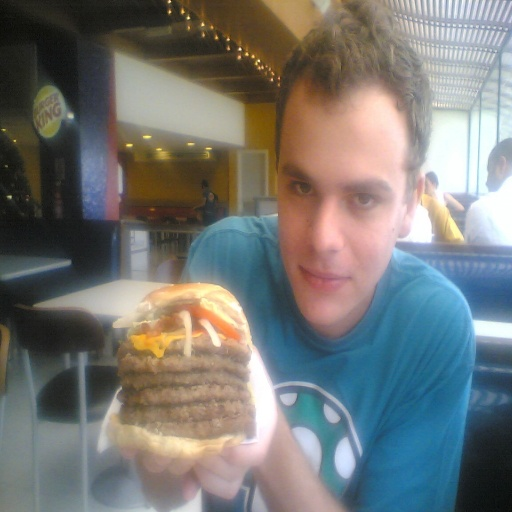hand: (192, 341, 276, 497), (105, 421, 270, 497)
